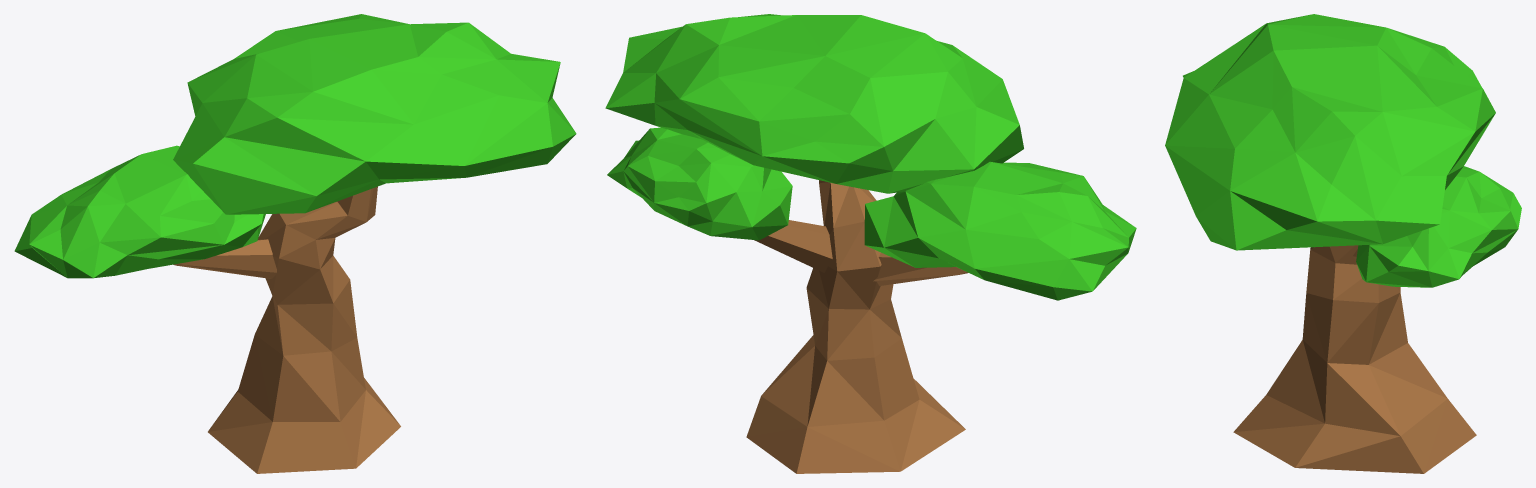
File: tree_wide1.fbx
The picture shows the model from 3 angles, left to right: view 1: azimuth 30°, elevation 25°; view 2: azimuth 150°, elevation 25°; view 3: azimuth 270°, elevation 25°; orthographic projection. The views are drawn at different scales.
Visible parts, largest first — view 1: tree_wide1; view 2: tree_wide1; view 3: tree_wide1.
Boxes of the visible parts, x1,y1,x2,y2 form: tree_wide1: (14,14,576,473); tree_wide1: (605,14,1136,473); tree_wide1: (1165,14,1521,473).
Size of the model in its own units: 4.14 by 2.95 by 2.35.
